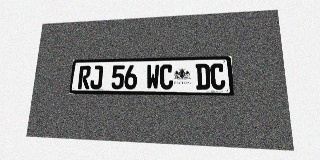5: (111, 65, 125, 89)
6: (124, 65, 137, 89)
C: (210, 63, 226, 90), (160, 64, 173, 89)
D: (195, 64, 210, 90)
J: (90, 65, 103, 89)
R: (78, 66, 91, 89)
W: (146, 64, 159, 89)
